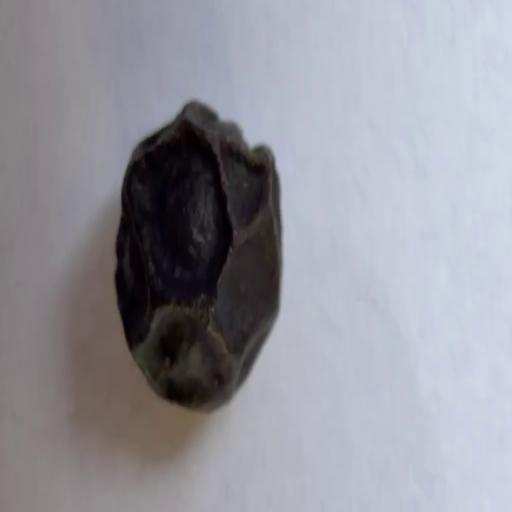Black_pepper: (102, 90, 298, 428)
